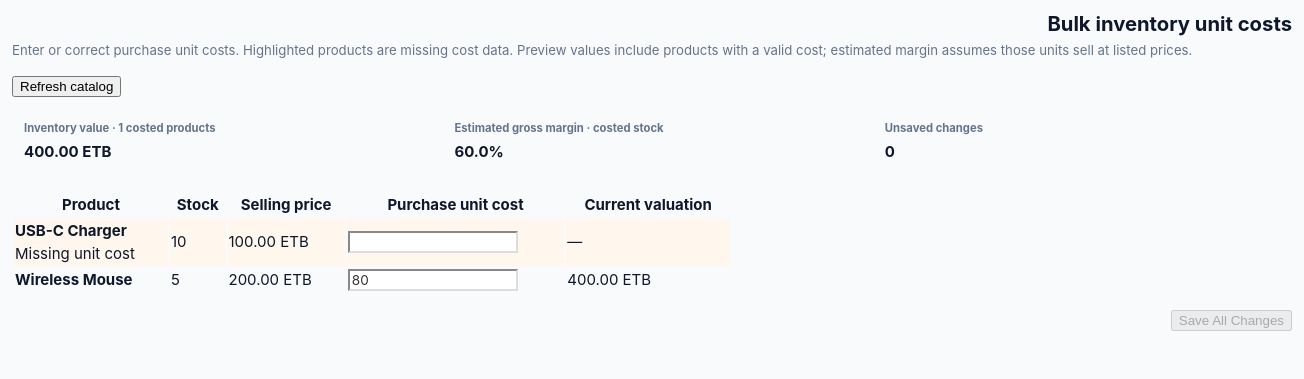
Test: BulkCostUpdater › shows server errors without discarding entered values
Step 1. Type "50" into the number field named "Unit cost for USB-C Charger" → (433,242), box x1=348 y1=232 x2=518 y2=254
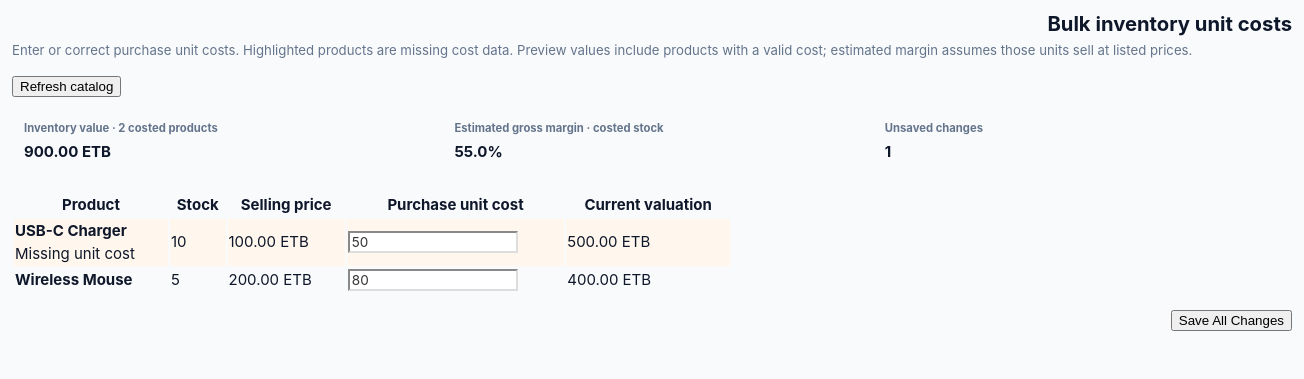
Step 2. Click the button "Save All Changes" → (1231,320), box x1=1171 y1=310 x2=1292 y2=331
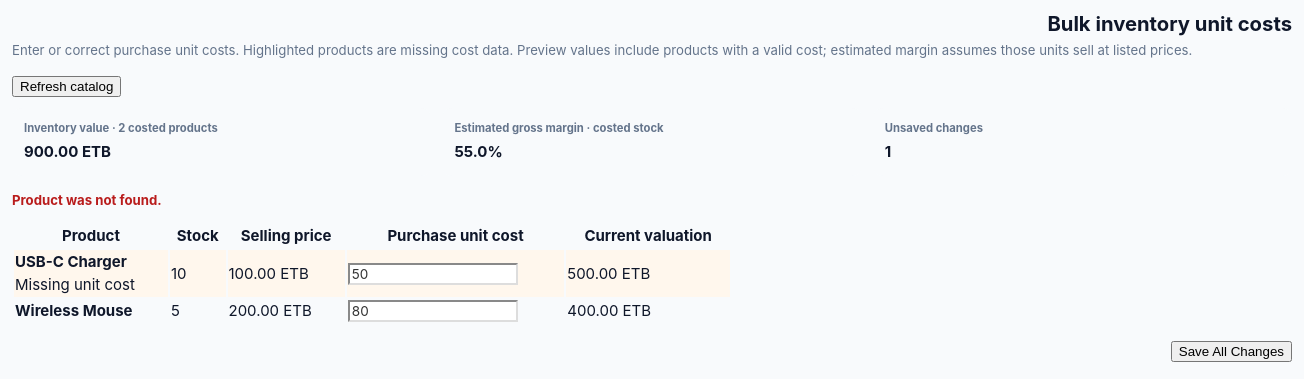
Expected: the message reads "Product was not found.", x1=12 y1=192 x2=162 y2=208
